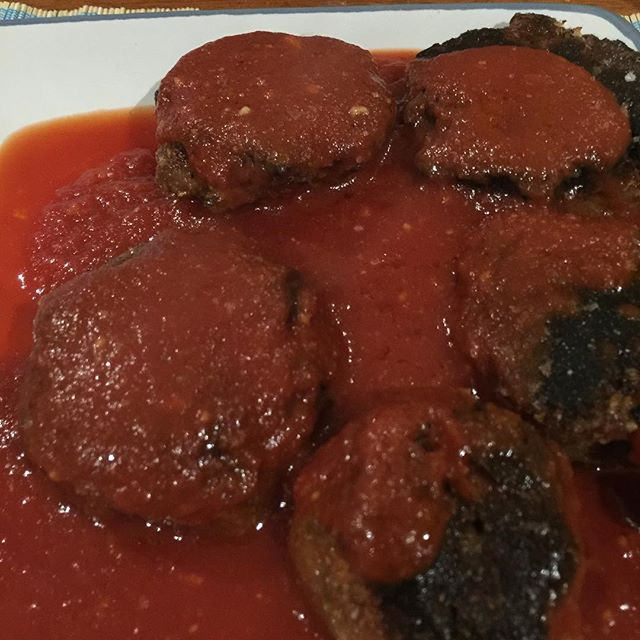meatballs: (26, 230, 326, 506), (284, 419, 584, 635), (416, 43, 605, 179)
